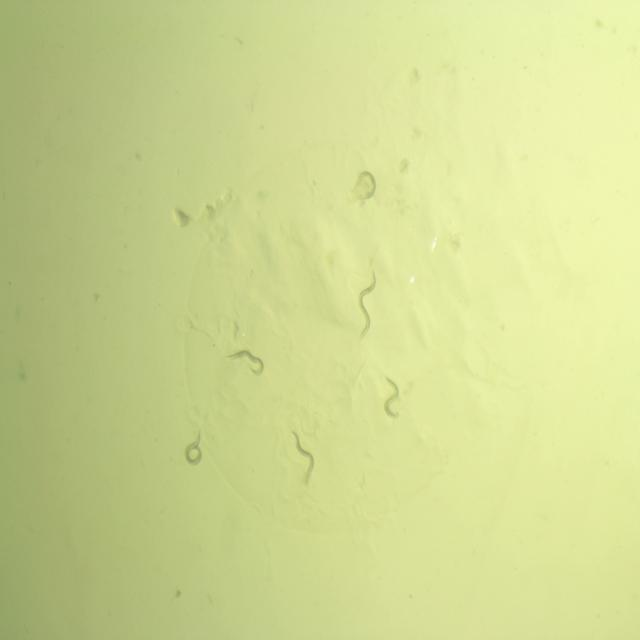worm: (355, 265, 379, 347), (288, 427, 318, 492), (222, 346, 268, 378), (379, 368, 404, 422), (180, 424, 205, 472), (350, 168, 378, 201)
